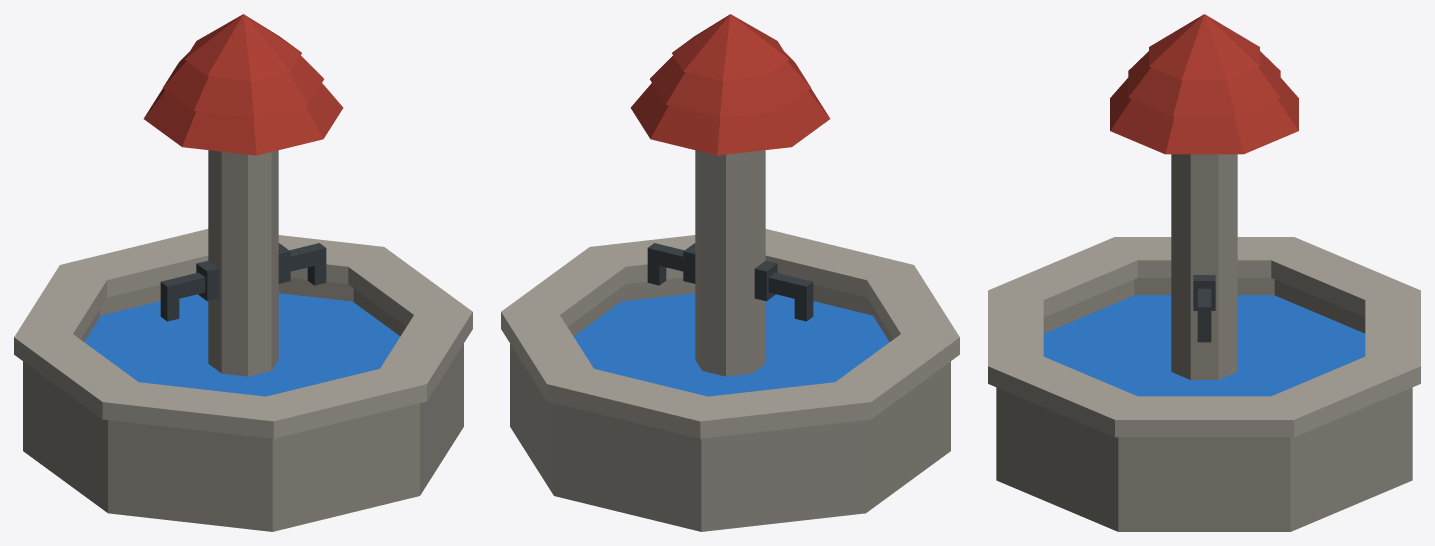
Rendered from brunnen.glb.
The picture shows the model from 3 angles, left to right: view 1: azimuth 30°, elevation 25°; view 2: azimuth 150°, elevation 25°; view 3: azimuth 270°, elevation 25°; orthographic projection.
Visible parts, largest first — view 1: brunnen_stein, brunnen_stein_hell, brunnen_wasser, brunnen_ziegel, brunnen_metall; view 2: brunnen_stein, brunnen_stein_hell, brunnen_wasser, brunnen_ziegel, brunnen_metall; view 3: brunnen_stein, brunnen_stein_hell, brunnen_wasser, brunnen_ziegel, brunnen_metall.
Boxes of the visible parts, bbox=[...] form: brunnen_stein: bbox=[23, 150, 463, 531]; brunnen_stein_hell: bbox=[14, 229, 472, 438]; brunnen_wasser: bbox=[84, 293, 400, 396]; brunnen_ziegel: bbox=[143, 14, 343, 155]; brunnen_metall: bbox=[160, 243, 326, 321]; brunnen_stein: bbox=[510, 150, 950, 531]; brunnen_stein_hell: bbox=[501, 229, 959, 438]; brunnen_wasser: bbox=[573, 293, 889, 396]; brunnen_ziegel: bbox=[630, 14, 830, 155]; brunnen_metall: bbox=[647, 243, 813, 321]; brunnen_stein: bbox=[996, 154, 1412, 531]; brunnen_stein_hell: bbox=[988, 237, 1420, 437]; brunnen_wasser: bbox=[1043, 295, 1365, 396]; brunnen_ziegel: bbox=[1110, 14, 1298, 154]; brunnen_metall: bbox=[1193, 275, 1215, 342].
Bounding box in the file's own units: 3.12 × 3.42 × 3.12.
